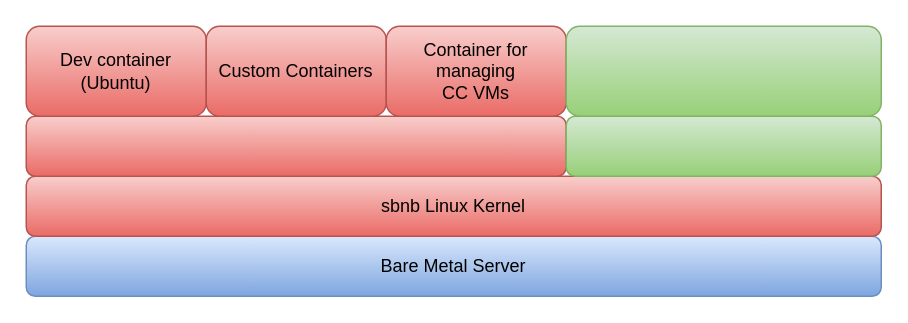
The diagram is 908 pixels wide and 323 high, and some of its shapes have lost their labels. The shapes that lost their labels are listed below. From the top down, each one's centre as x and y in pixels, then its label:
At point 723,70: "Trusted Linux OS".
At point 295,145: "Container Engine (Docker)".
At point 723,145: "Confidential Computing (CC) VMs".
